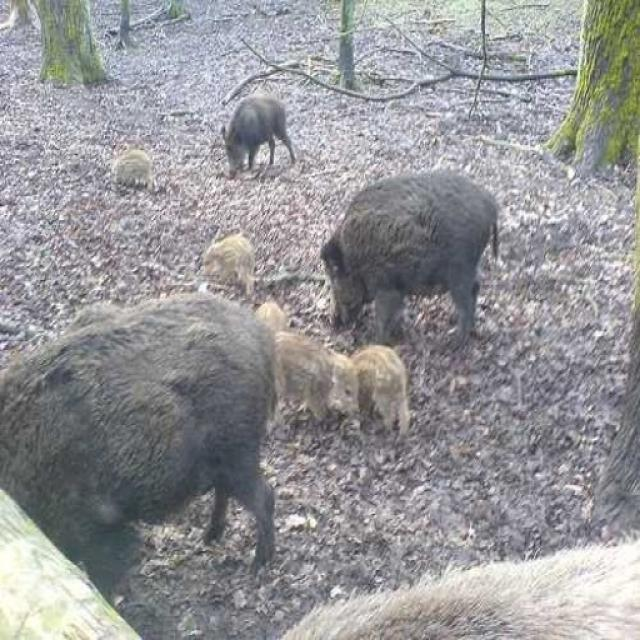pig: (298, 162, 549, 334)
